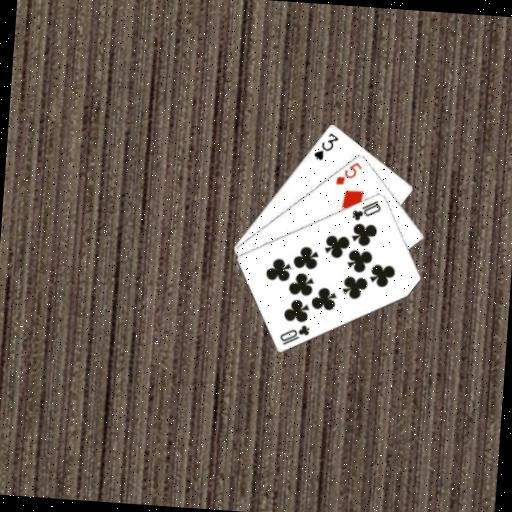10C: (276, 320, 311, 349), (349, 196, 384, 224)
3S: (311, 129, 341, 163)
5D: (332, 157, 364, 188)
